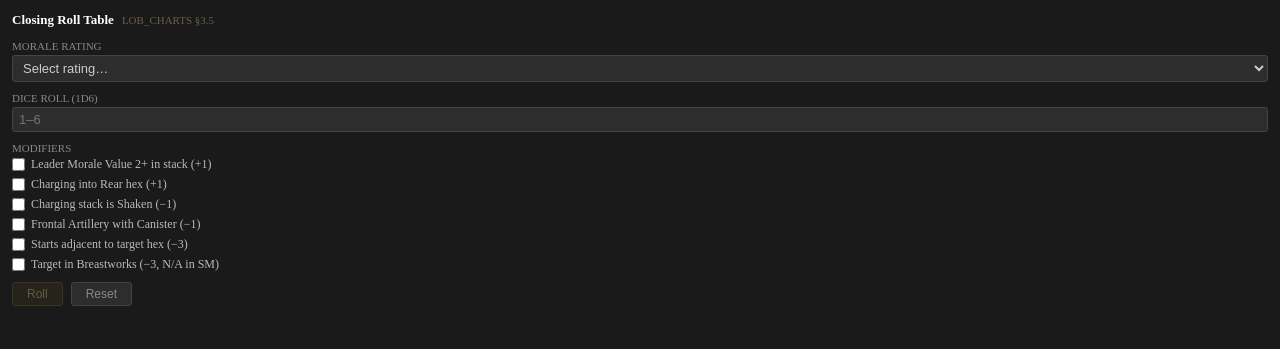
Scenario: ClosingRollPanel › displays loading state while POST is in flight
Select "B" in the dropdown labelled "Morale Rating" at (640, 68), box 12,55 -> 1268,82
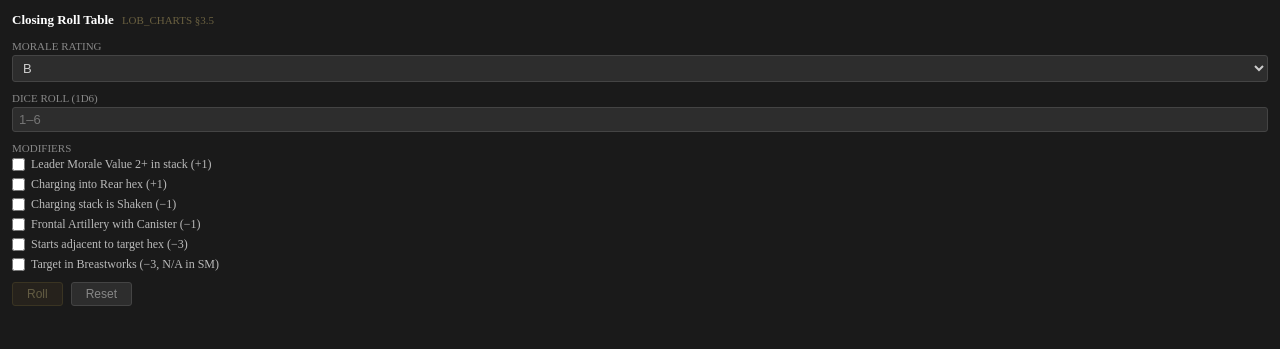
Type "3" into the number field labelled "Dice Roll (1d6)" at (640, 120), box 12,107 -> 1268,132
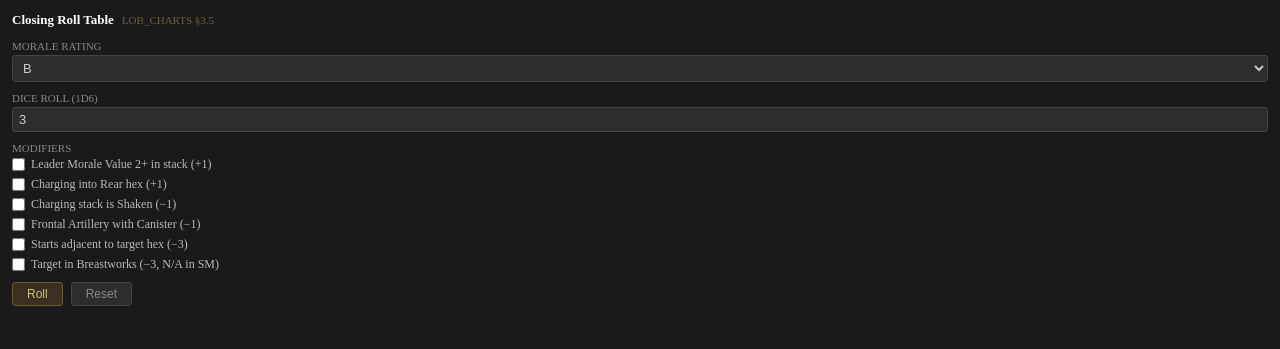
Click the button "Roll" at (37, 294), box 12,282 -> 63,306
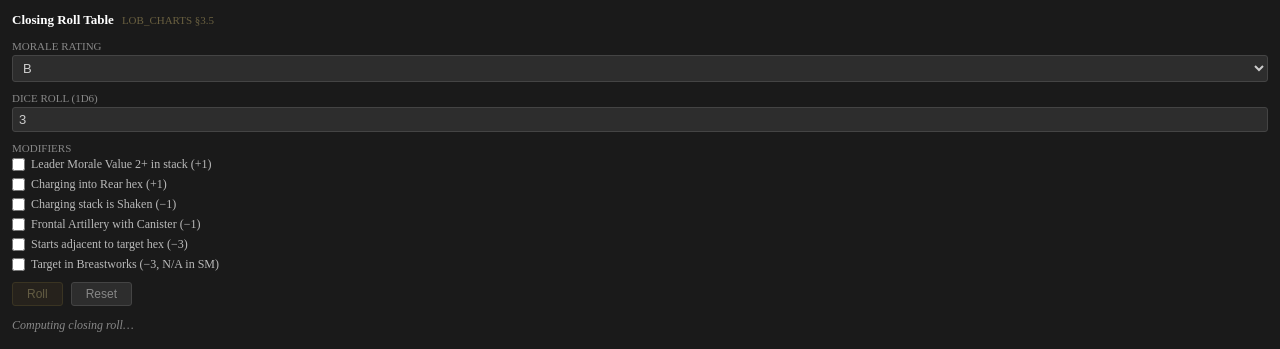
Check: the text "Computing closing roll" is shown, box 12,318 -> 134,332
